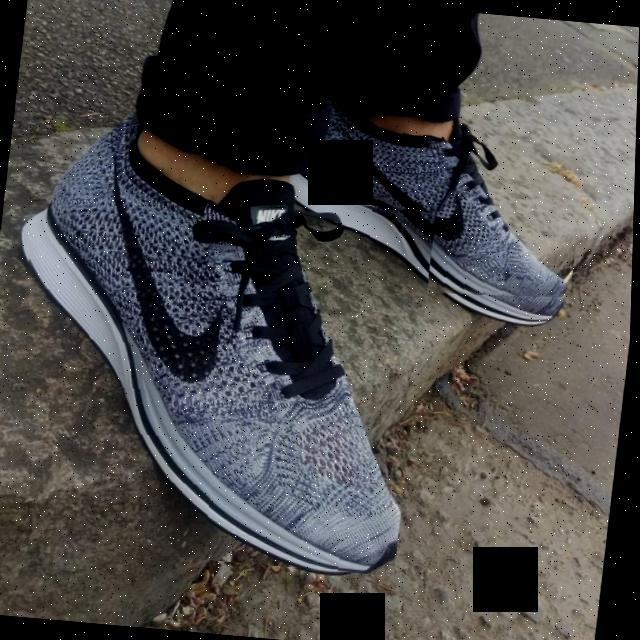shoe: (0, 174, 438, 576), (298, 106, 590, 312)
